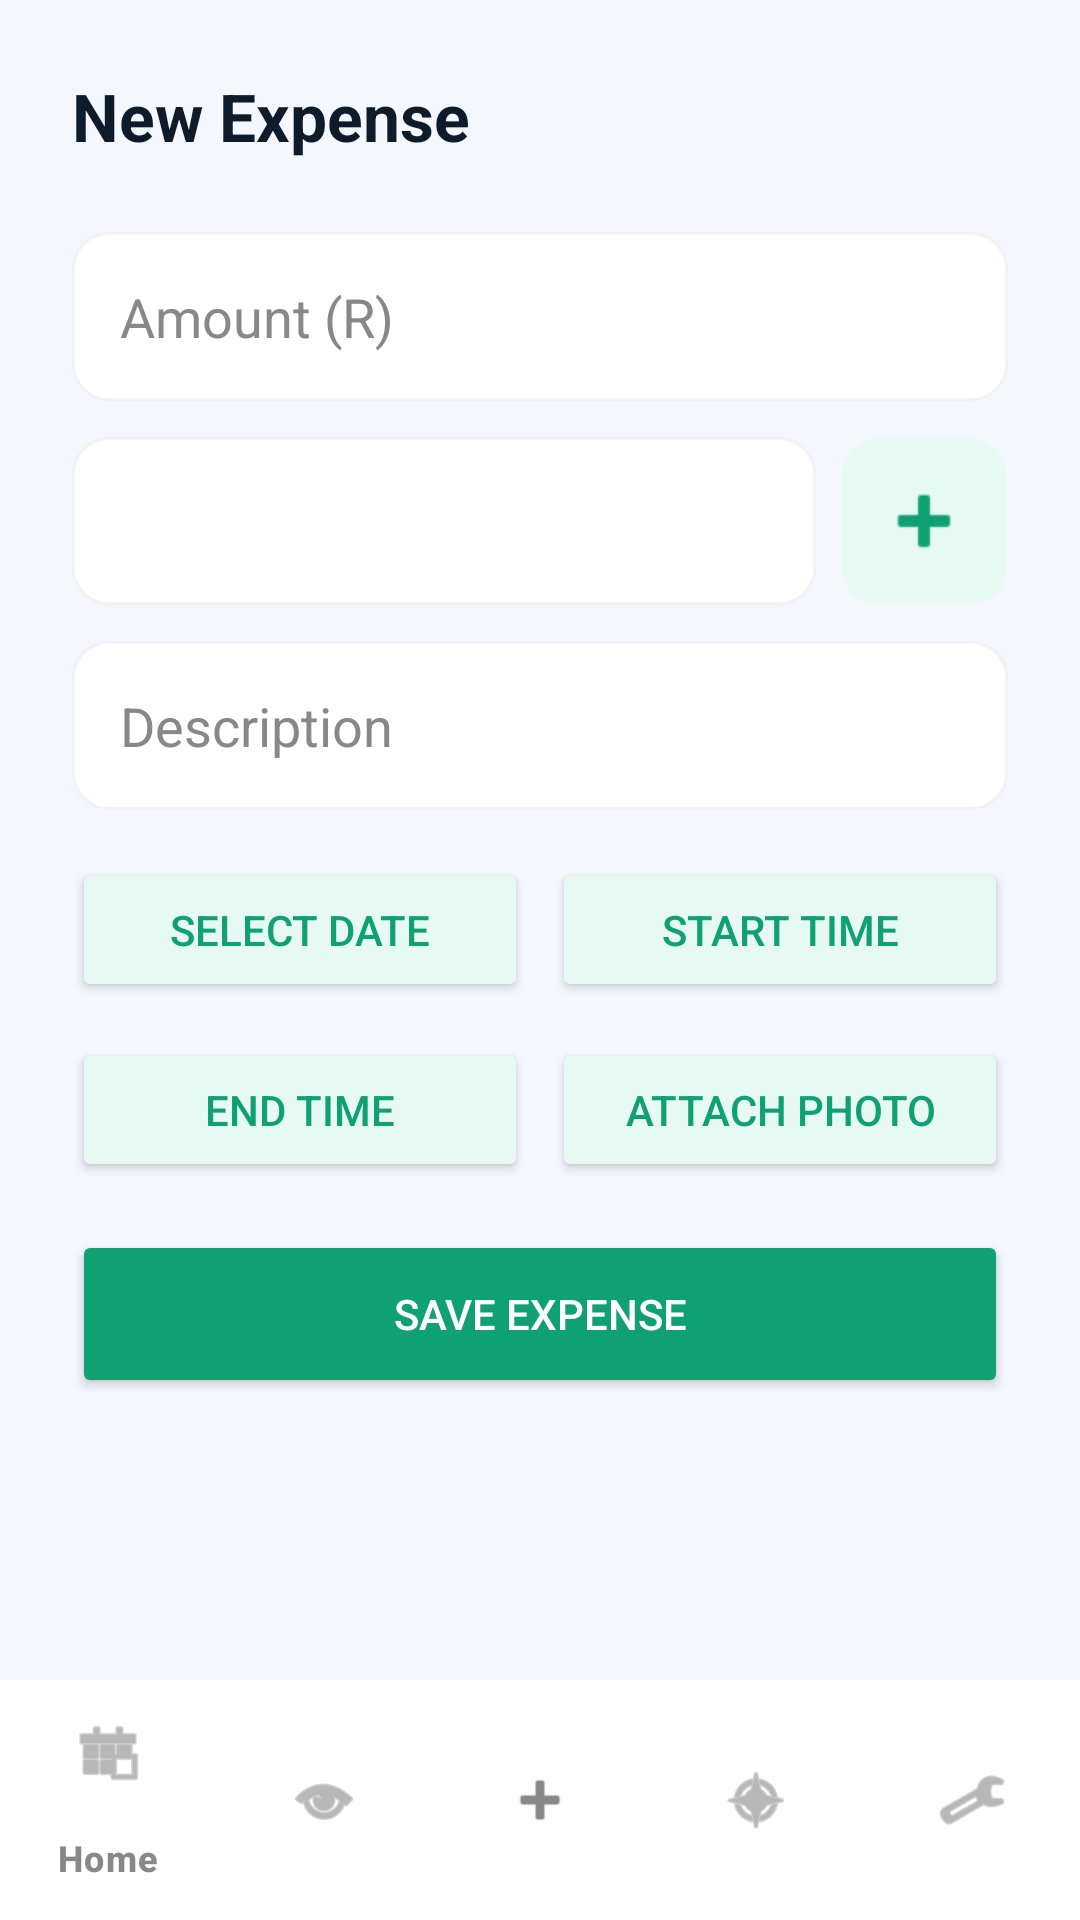

Named icons in this screenshot (1080px×1920px) and their centers, (x=x, y=y):
add: (x=924, y=521)
